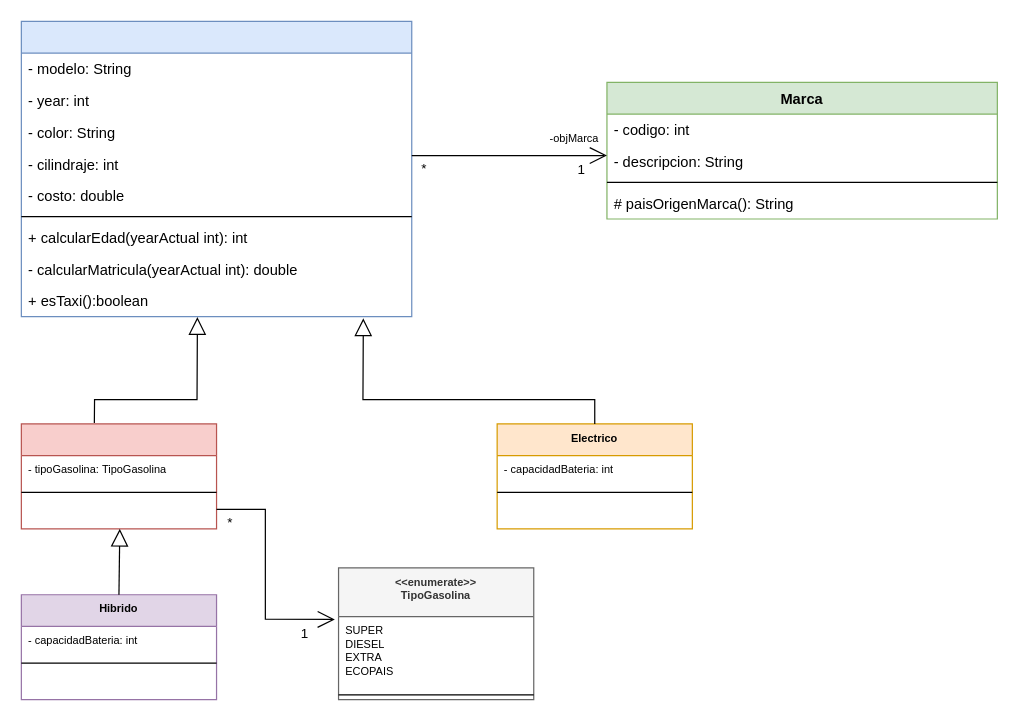
Image size: 1019x725. Some labels were removed from this diagram. The box of each missing label's shape, as (x1, y1, x2, y2) in pixels:
Auto: (20, 20, 412, 317)
Combustion: (20, 423, 217, 529)
